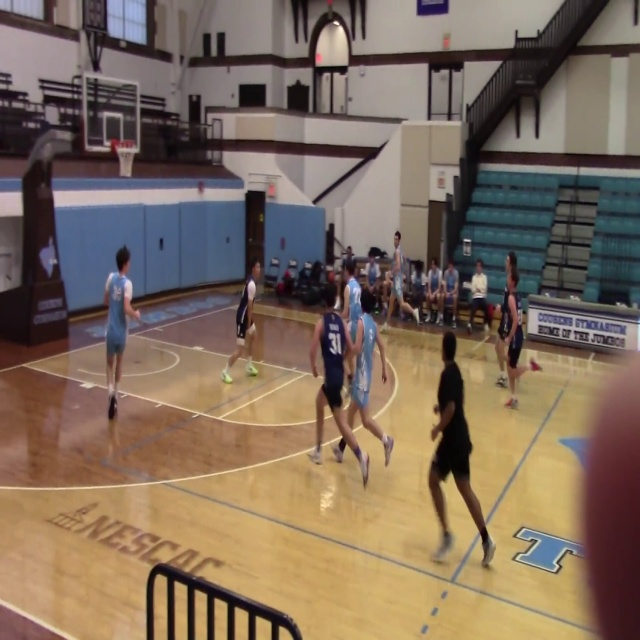Basketball: (529, 359, 542, 371)
